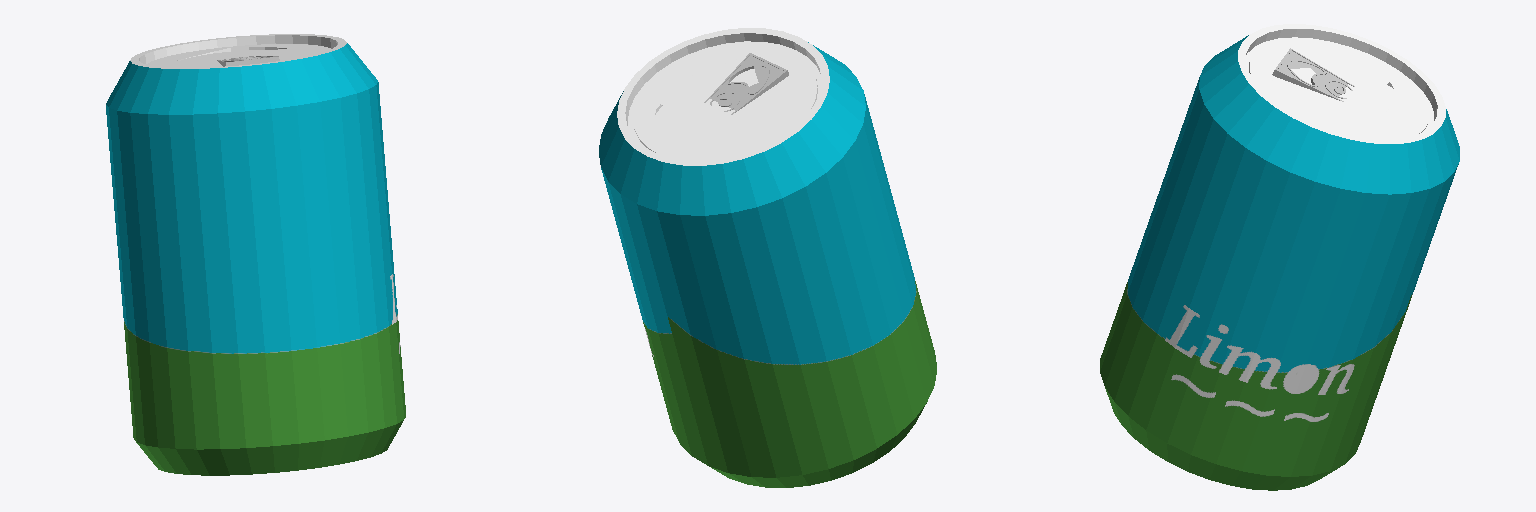
3 renders of one model, left to right at view 1: azimuth 30°, elevation 25°; view 2: azimuth 150°, elevation 25°; view 3: azimuth 270°, elevation 25°, orthographic.
Parts seen in each view (by area): view 1: Cylinder; view 2: Cylinder, Cube_Cube.001; view 3: Cylinder, Cube_Cube.001.
Part boxes in pixels (left/top/right/bottom): Cylinder: left=106, top=34, right=405, bottom=475; Cylinder: left=599, top=28, right=936, bottom=487; Cube_Cube.001: left=704, top=53, right=788, bottom=114; Cylinder: left=1100, top=24, right=1459, bottom=490; Cube_Cube.001: left=1272, top=48, right=1354, bottom=101.
Bounding box in the file's own units: 2.17 × 3.36 × 2.63.
2 materials, 1 textured.